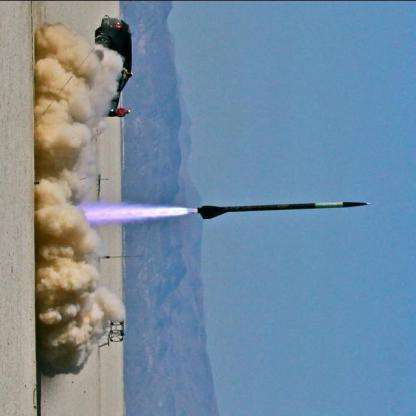MIL_TBM: (195, 198, 369, 218)
